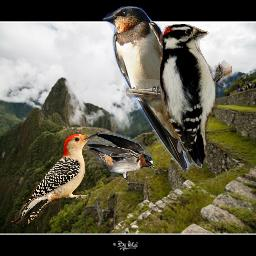Swallow: (102, 6, 202, 172), (87, 133, 154, 183)
Woodpecker: (160, 24, 232, 164), (10, 132, 99, 227)
